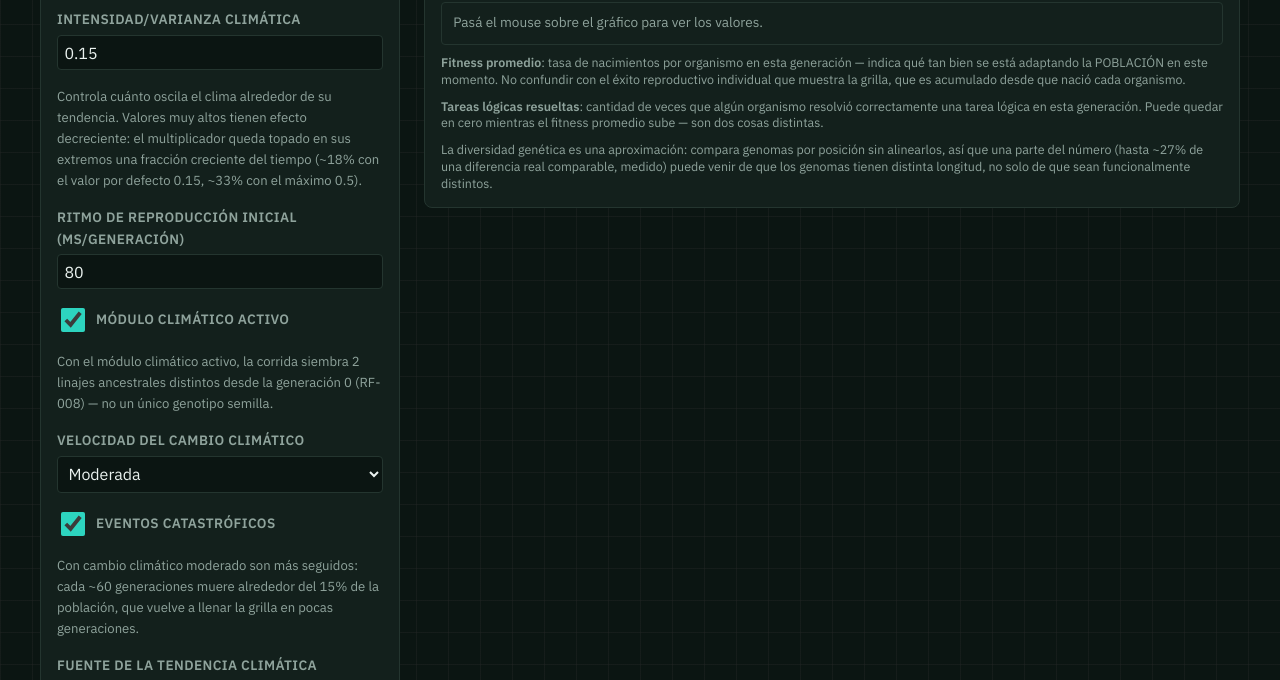
Scenario: <App /> › RF-008: con el módulo climático activo (default), avisa en el formulario cuántos linajes se van a sembrar antes de arrancar
(page scrolled)
expect the text "siembra 2 linajes ancestrales distintos" is shown: met, box x1=57 y1=351 x2=383 y2=414
Click the checkbox labelled "Módulo climático activo". click: [73, 320]
box: x1=61 y1=308 x2=85 y2=332
(page scrolled)
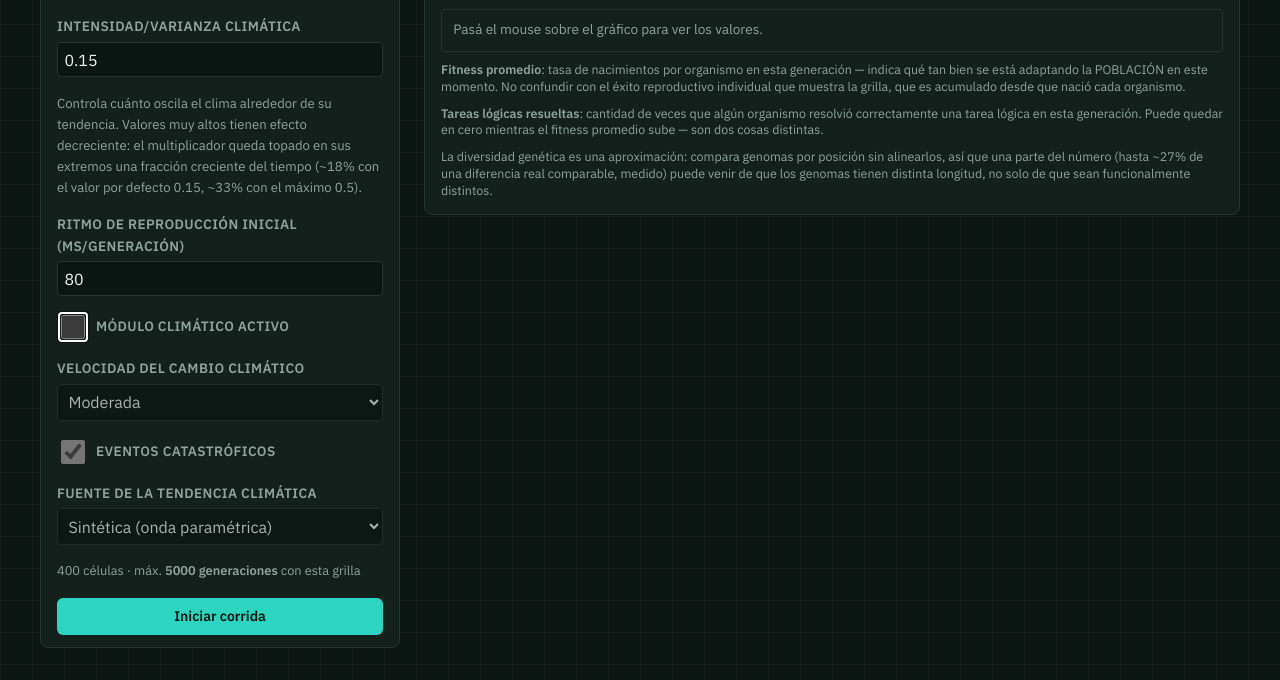
expect the text "linajes ancestrales distintos" is gone: met
